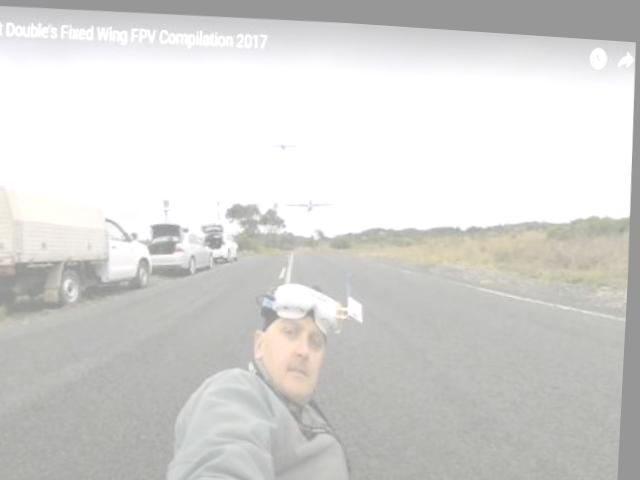uav: (280, 188, 341, 216), (261, 127, 306, 153)
